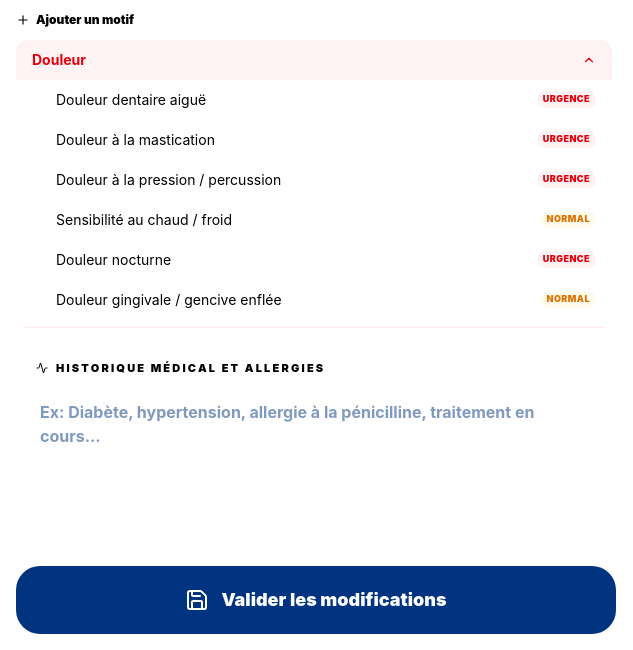
Scenario: EditPatientForm G2 interactive matrix › surfaces a dossier-number conflict and does not navigate on backend refusal
The image size is (633, 650).
(page scrolled)
Click the button "Valider les modifications": (316, 600) left=16, top=566, right=616, bottom=634
(page scrolled)
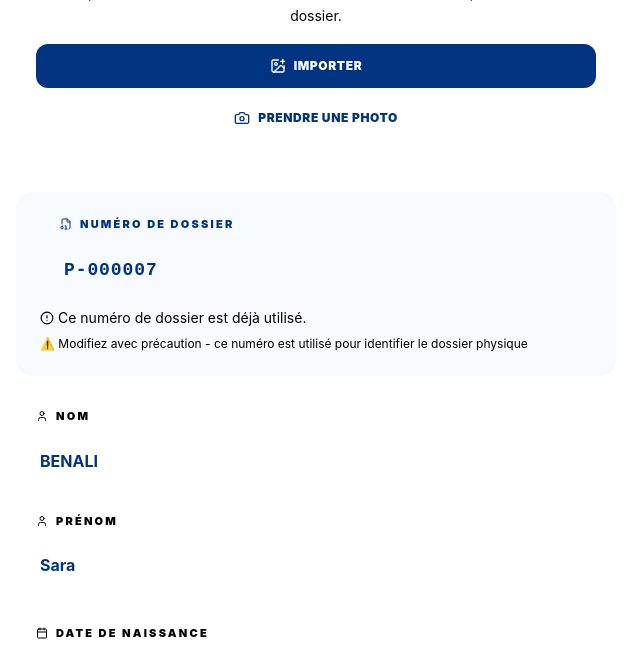
Expected: the text "Ce numéro de dossier est déjà utilisé." is shown, left=40, top=309, right=306, bottom=326
